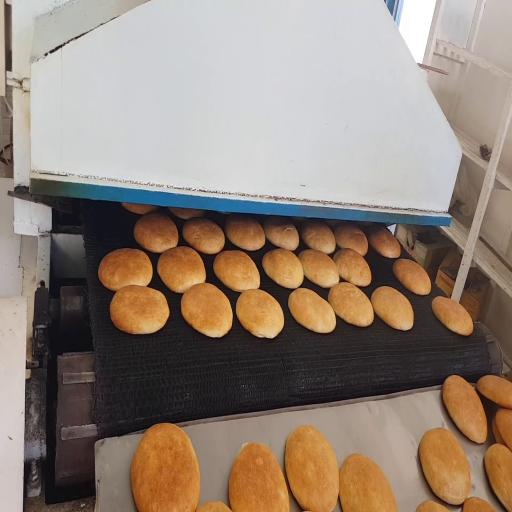bread: (131, 424, 199, 511), (285, 426, 339, 511), (229, 443, 289, 511), (419, 428, 470, 504), (340, 454, 397, 511), (443, 375, 487, 443), (110, 285, 169, 334), (181, 283, 232, 337), (98, 248, 152, 291), (236, 290, 284, 338), (157, 247, 205, 293), (288, 288, 335, 333), (328, 283, 373, 327), (371, 286, 413, 330), (214, 251, 259, 291), (134, 213, 178, 253), (485, 444, 511, 511), (262, 249, 303, 288), (432, 296, 473, 335), (299, 249, 339, 288), (183, 218, 224, 254), (334, 248, 371, 286), (225, 215, 265, 250), (393, 259, 431, 295), (301, 220, 335, 254), (264, 217, 299, 250), (334, 223, 368, 256), (477, 375, 511, 408), (368, 228, 401, 258), (494, 408, 511, 448), (169, 207, 204, 220), (463, 497, 495, 511), (122, 203, 158, 214), (492, 415, 505, 444), (416, 500, 448, 511), (197, 502, 231, 511)
